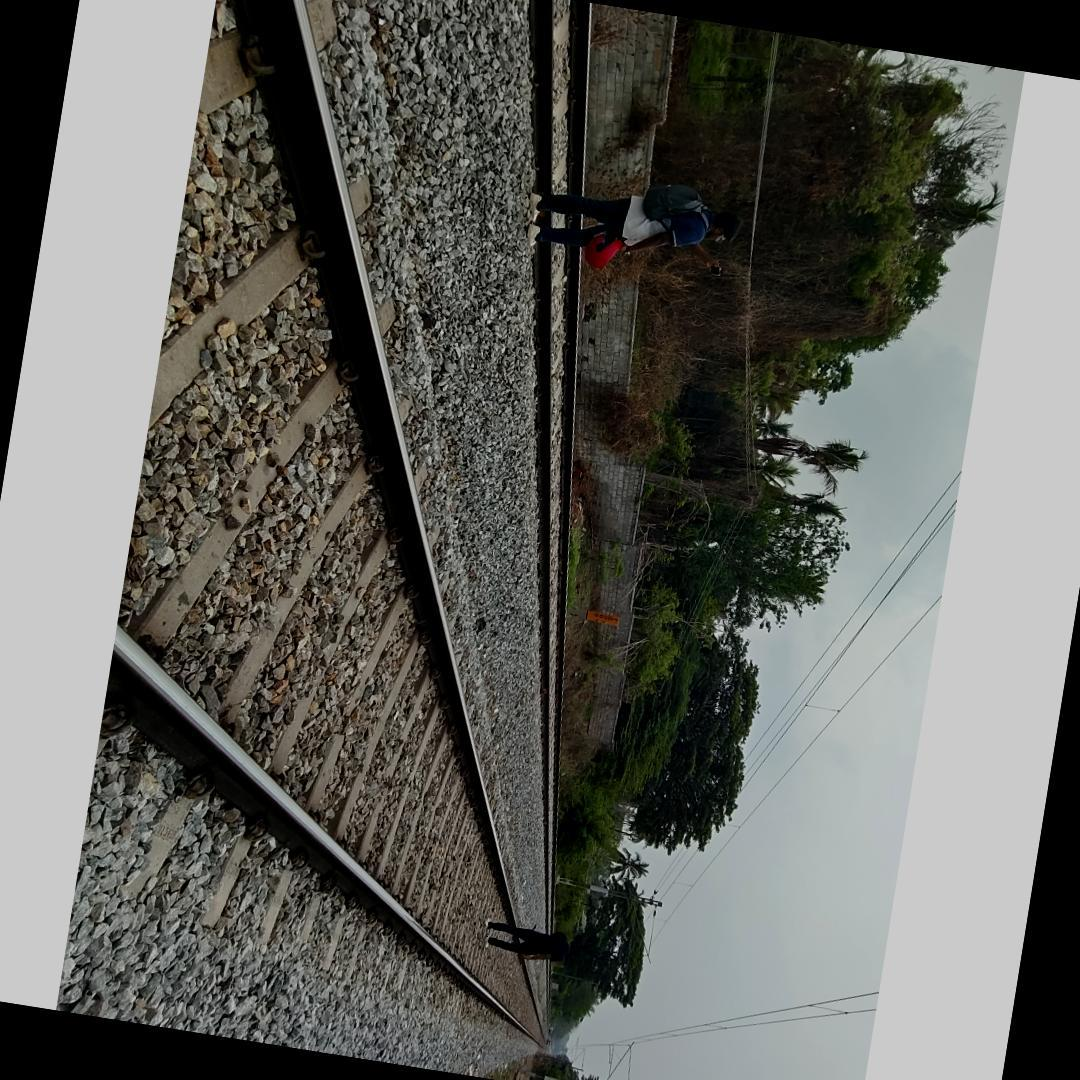standing: (521, 160, 747, 282), (483, 916, 586, 970)
track: (96, 0, 552, 1057)
